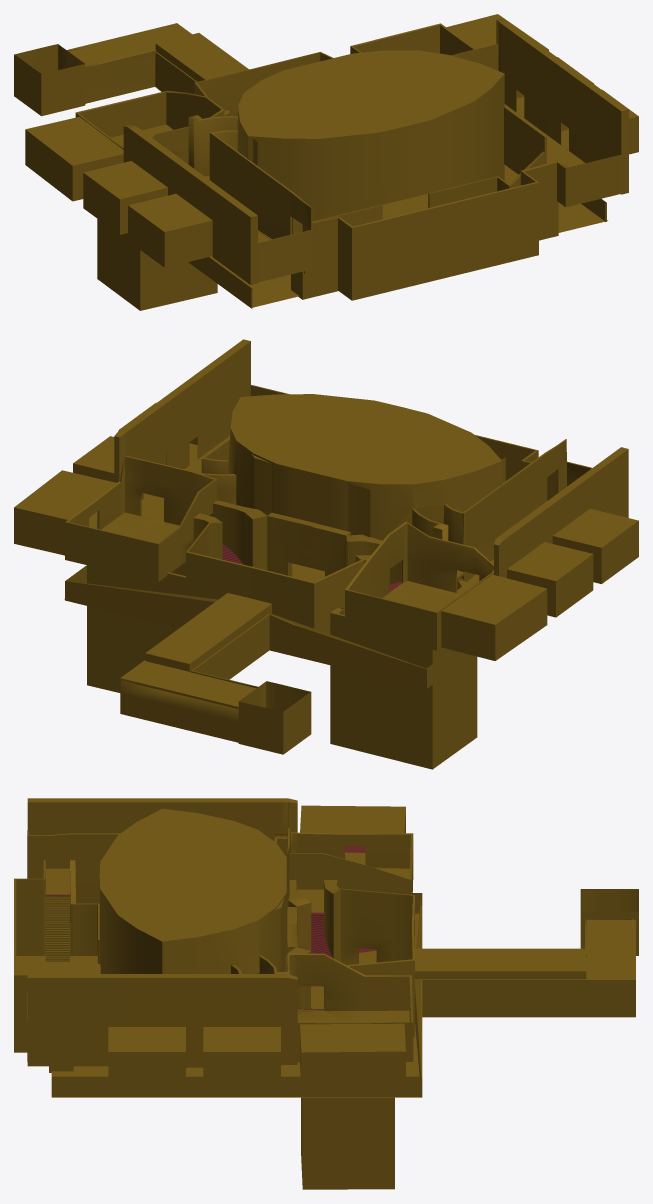
Rendered from Structure.fbx.
3 views of the same model, one above another, from view 1: azimuth 30°, elevation 25°; view 2: azimuth 150°, elevation 25°; view 3: azimuth 270°, elevation 25° (orthographic). The views are drawn at different scales.
Parts seen in each view (by area): view 1: Cube__8__Clone_, PolyShape__2_, PolyShape__2__Clone_, Cube, Cube__8_, PolyShape__1__Clone_, Cube__1_, Cube__2_, Cube__3_, Plane, Cube__4_, Stairs (+1 smaller); view 2: Cube__8__Clone_, Cube__8_, PolyShape__2_, PolyShape__1__Clone_, PolyShape__1_, PolyShape__2__Clone_, Cube__4_, Cube__1_, Cube__3_, Cube__2_, Cube; view 3: Cube__8_, Cube__8__Clone_, PolyShape__2__Clone_, PolyShape__2_, Cube__3_, PolyShape__1_, PolyShape__1__Clone_, Cube, Cube__4_, Cube__1_, Plane, Cube__2_ (+2 smaller).
Boxes of the visible parts, box(x1,y1,x2,y2) form: Cube__8__Clone_: box(25, 90, 312, 284); PolyShape__2_: box(188, 51, 501, 239); PolyShape__2__Clone_: box(241, 50, 546, 204); Cube: box(292, 151, 557, 300); Cube__8_: box(350, 14, 638, 207); PolyShape__1__Clone_: box(97, 67, 258, 310); Cube__1_: box(66, 23, 191, 103); Cube__2_: box(14, 44, 85, 116); Cube__3_: box(155, 33, 248, 93); Plane: box(209, 165, 607, 307); Cube__4_: box(188, 198, 606, 308); Stairs: box(291, 271, 337, 299); Cube__8__Clone_: box(345, 439, 638, 660); Cube__8_: box(14, 339, 289, 581); PolyShape__2_: box(233, 394, 547, 581); PolyShape__1__Clone_: box(250, 524, 477, 769); PolyShape__1_: box(87, 500, 316, 692); PolyShape__2__Clone_: box(187, 394, 505, 590); Cube__4_: box(65, 565, 472, 688); Cube__1_: box(120, 614, 269, 742); Cube__3_: box(145, 593, 271, 679); Cube__2_: box(238, 681, 311, 754); Cube: box(474, 434, 557, 500); Cube__8_: box(27, 953, 413, 1090); Cube__8__Clone_: box(27, 798, 413, 912); PolyShape__2__Clone_: box(99, 810, 289, 1067); PolyShape__2_: box(70, 808, 287, 971); Cube__3_: box(415, 948, 586, 1017); PolyShape__1_: box(287, 924, 414, 1189); PolyShape__1__Clone_: box(286, 879, 414, 965); Cube: box(14, 860, 100, 1052); Cube__4_: box(51, 893, 422, 1097); Cube__1_: box(415, 918, 635, 1017); Plane: box(51, 913, 421, 1097); Cube__2_: box(580, 889, 638, 955).
Bounding box in the file's own units: 4785 × 2045 × 5119.
